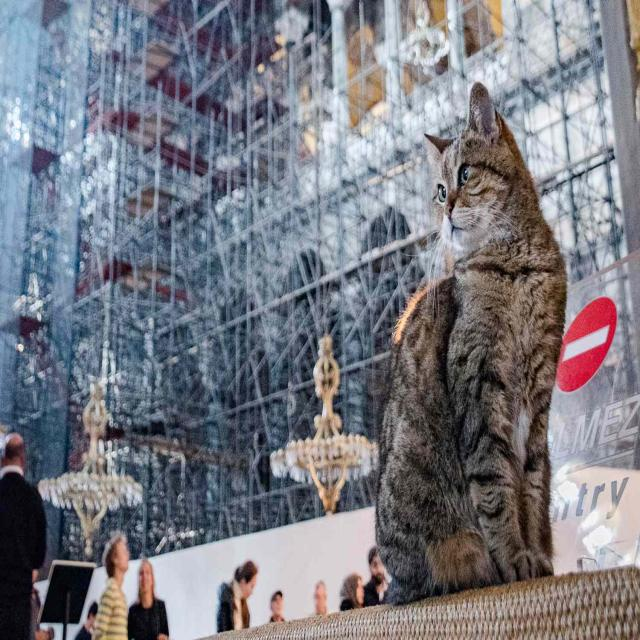cat: (376, 82, 566, 604)
